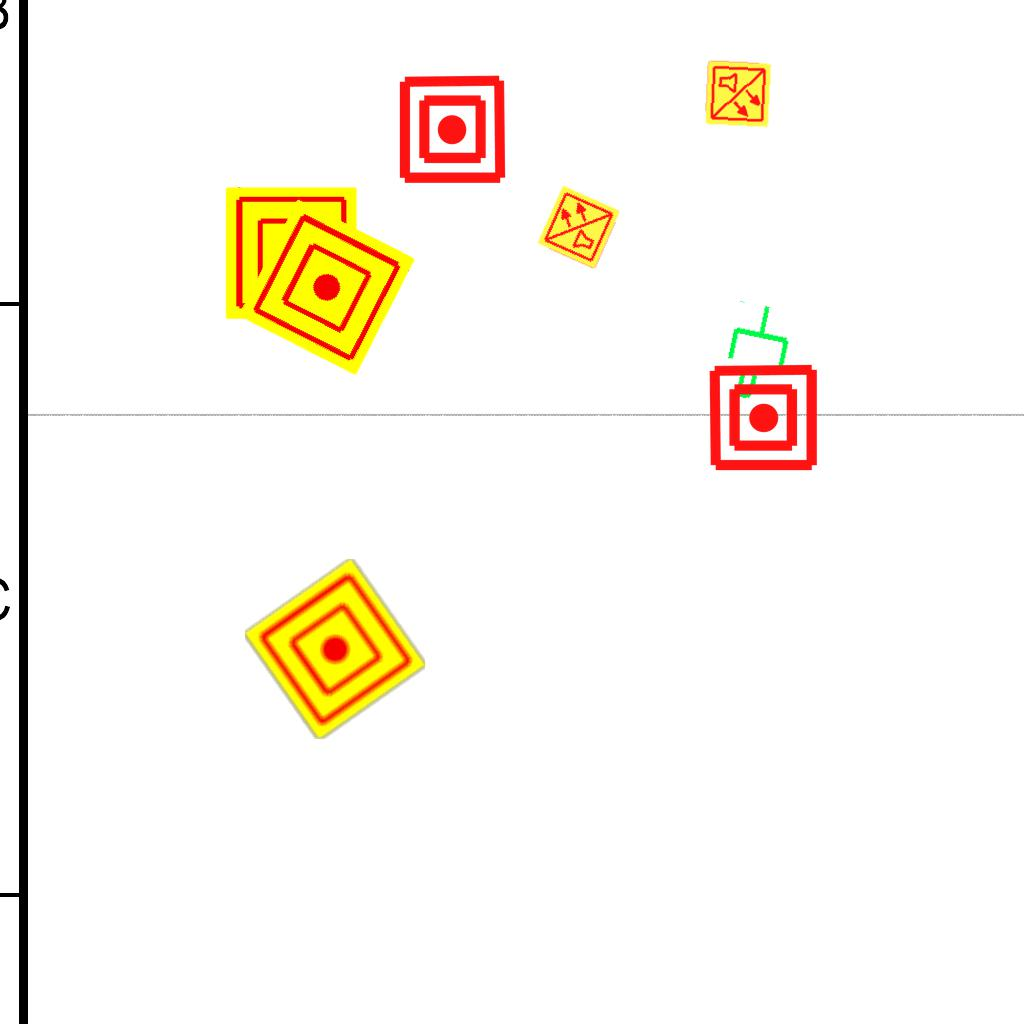Datenanschluss_einfach: (715, 296, 804, 410)
NAM-Nichtautomatischer_Melder: (243, 557, 427, 741), (238, 198, 416, 376), (225, 187, 357, 319), (707, 361, 820, 474), (396, 73, 509, 186)
OKW_Multisensormelder_(Kombination_optischer_Rauch-Kahlenmonoxid_Waerme-Melder): (535, 183, 623, 271), (703, 59, 773, 129)
